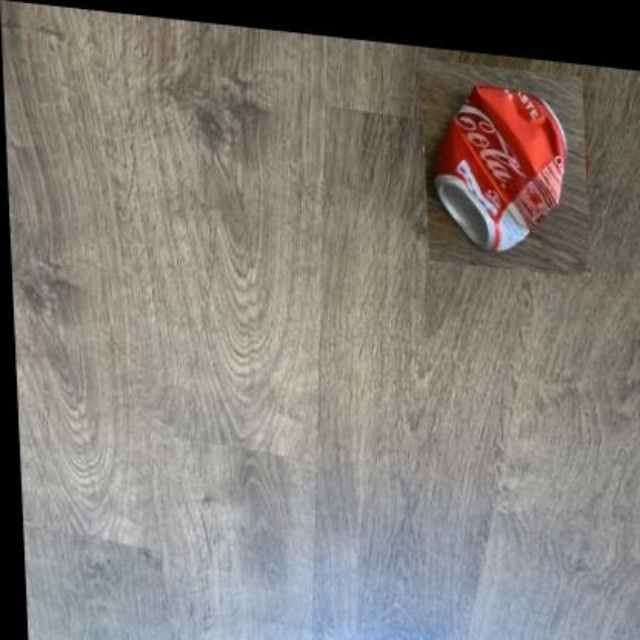trash: (435, 85, 565, 251)
